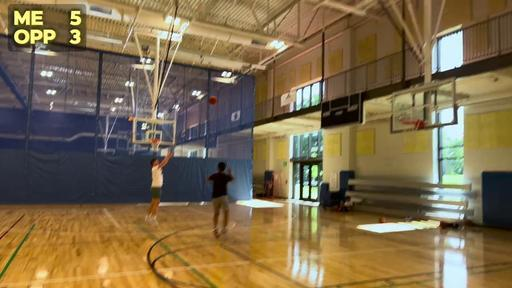ball: (208, 95, 218, 104), (380, 216, 388, 224)
human: (144, 152, 174, 226), (207, 161, 234, 238)
rim: (398, 118, 426, 138), (150, 138, 161, 151)
